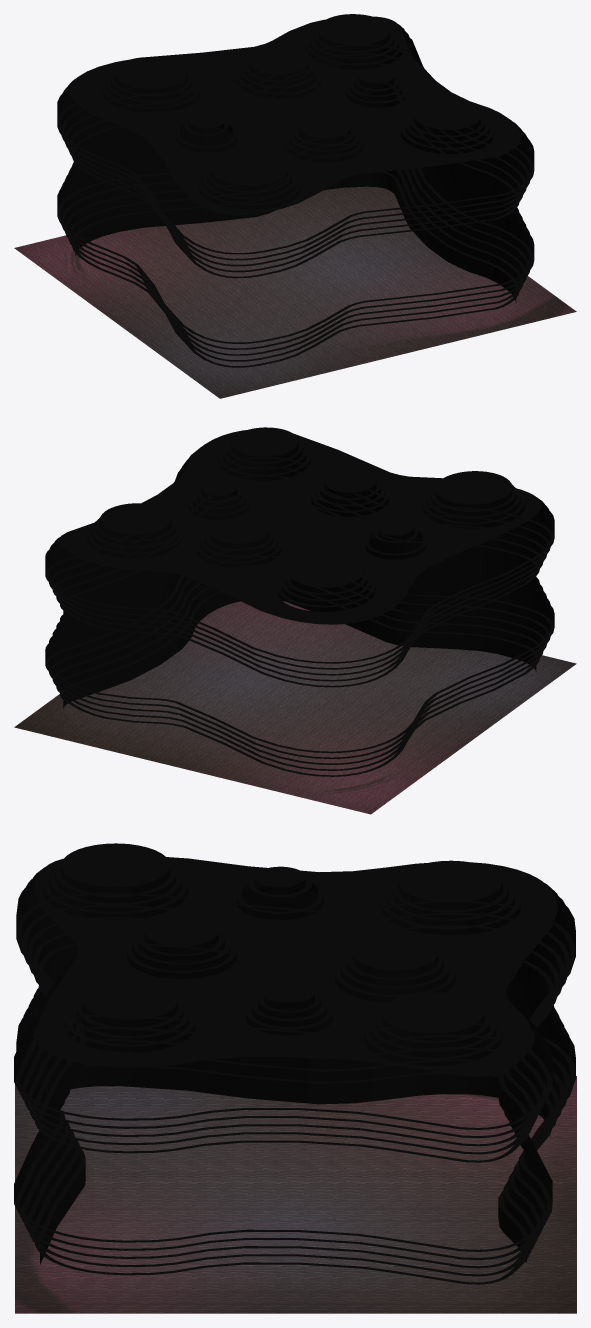
Rendered from Xperience-Gamelan-Room.fbx.
3 renders of one model, top to bottom at view 1: azimuth 30°, elevation 25°; view 2: azimuth 150°, elevation 25°; view 3: azimuth 270°, elevation 25°, orthographic. The views are drawn at different scales.
Visible parts, largest first — view 1: Floor_bake, ruang_vert_1, ruang_hor_1; view 2: Floor_bake, ruang_vert_1, ruang_hor_1; view 3: Floor_bake, ruang_hor_1, ruang_vert_1.
Part boxes in pixels (x1=…): Floor_bake: x1=14, y1=186, x2=576, y2=398; ruang_vert_1: x1=57, y1=24, x2=534, y2=367; ruang_hor_1: x1=70, y1=14, x2=521, y2=215; Floor_bake: x1=14, y1=601, x2=576, y2=814; ruang_vert_1: x1=45, y1=442, x2=554, y2=776; ruang_hor_1: x1=58, y1=427, x2=541, y2=624; Floor_bake: x1=15, y1=1076, x2=576, y2=1313; ruang_hor_1: x1=32, y1=843, x2=557, y2=1076; ruang_vert_1: x1=14, y1=866, x2=575, y2=1284.
Bounding box in the file's own units: 2002 × 1000 × 2004.
